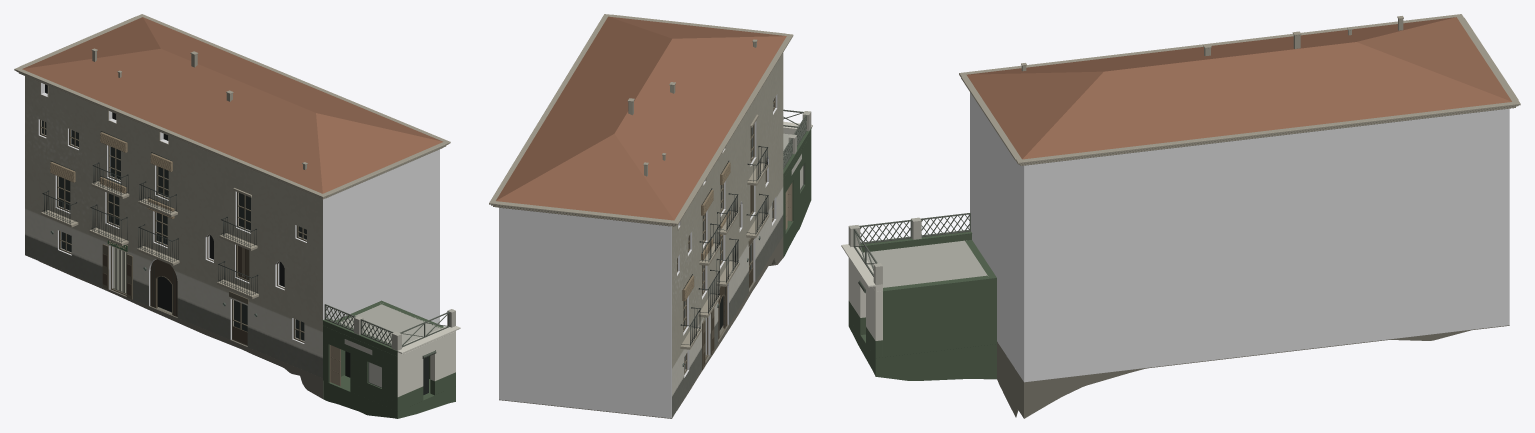
File: bar_sport.glb
3 renders of one model, left to right at view 1: azimuth 30°, elevation 25°; view 2: azimuth 150°, elevation 25°; view 3: azimuth 270°, elevation 25°, orthographic. The views are drawn at different scales.
Parts seen in each view (by area): view 1: MQN-BLD-0434__Muro_Bar_Sport_20_huecos.001, MQN-BLD-0434__Cubierta_soporte_cuatro_aguas.001, MQN-BLD-0019__Muro_frontal_G01_G02.001, HIP_CIERRE_Anexo, MQN-BLD-0019__L03_muro_superior_claro.001, MQN-BLD-0019__Forjado_terraza_horizontal.001, HIP_CIERRE_Bar, MQN-BLD-0434__Alero_frente_escalonado.005, MQN-BLD-0434__Alero_trasero_tecnico.005, MQN-BLD-0434__G03_portal_madera_medio_punto.001, MQN-BLD-0019__L03_muro_banda_verde.001, MQN-BLD-0434__Alero_costado.011 (+6 smaller); view 2: MQN-BLD-0434__Muro_Bar_Sport_20_huecos.001, MQN-BLD-0434__Cubierta_soporte_cuatro_aguas.001, MQN-BLD-0019__Muro_frontal_G01_G02.001, MQN-BLD-0434__Alero_frente_escalonado.005, MQN-BLD-0434__Alero_trasero_tecnico.005, HIP_CIERRE_Bar, MQN-BLD-0434__Alero_costado.010, HIP_CIERRE_Anexo, MQN-BLD-0434__Alero_costado.011, MQN-BLD-0434__Alero_costado.006; view 3: MQN-BLD-0434__Muro_Bar_Sport_20_huecos.001, MQN-BLD-0434__Cubierta_soporte_cuatro_aguas.001, MQN-BLD-0019__Cierre_trasero_TECNICO.001, HIP_CIERRE_Anexo, MQN-BLD-0019__Forjado_terraza_horizontal.001, HIP_CIERRE_Bar, MQN-BLD-0434__Alero_trasero_tecnico.005, MQN-BLD-0434__Alero_frente_escalonado.005, MQN-BLD-0019__L03_muro_superior_claro.001, MQN-BLD-0434__Alero_trasero_tecnico.003, MQN-BLD-0019__Peto_frontal_opaco.001, MQN-BLD-0019__Cierre_lateral_izquierdo_TECNICO.001 (+3 smaller).
Part boxes in pixels (bbox=[...]): MQN-BLD-0434__Muro_Bar_Sport_20_huecos.001: bbox=[25, 76, 439, 378]; MQN-BLD-0434__Cubierta_soporte_cuatro_aguas.001: bbox=[22, 17, 443, 193]; MQN-BLD-0019__Muro_frontal_G01_G02.001: bbox=[323, 326, 401, 411]; HIP_CIERRE_Anexo: bbox=[323, 375, 455, 418]; MQN-BLD-0019__L03_muro_superior_claro.001: bbox=[402, 331, 455, 395]; MQN-BLD-0019__Forjado_terraza_horizontal.001: bbox=[339, 303, 441, 344]; HIP_CIERRE_Bar: bbox=[25, 255, 323, 398]; MQN-BLD-0434__Alero_frente_escalonado.005: bbox=[14, 66, 328, 197]; MQN-BLD-0434__Alero_trasero_tecnico.005: bbox=[137, 14, 450, 144]; MQN-BLD-0434__G03_portal_madera_medio_punto.001: bbox=[150, 259, 177, 316]; MQN-BLD-0019__L03_muro_banda_verde.001: bbox=[402, 372, 455, 409]; MQN-BLD-0434__Alero_costado.011: bbox=[325, 143, 445, 195]; MQN-BLD-0434__Muro_Bar_Sport_20_huecos.001: bbox=[499, 53, 783, 418]; MQN-BLD-0434__Cubierta_soporte_cuatro_aguas.001: bbox=[496, 16, 786, 220]; MQN-BLD-0019__Muro_frontal_G01_G02.001: bbox=[783, 134, 811, 237]; MQN-BLD-0434__Alero_frente_escalonado.005: bbox=[670, 33, 793, 224]; MQN-BLD-0434__Alero_trasero_tecnico.005: bbox=[489, 14, 611, 205]; HIP_CIERRE_Bar: bbox=[499, 236, 783, 418]; MQN-BLD-0434__Alero_costado.010: bbox=[497, 201, 670, 224]; HIP_CIERRE_Anexo: bbox=[783, 193, 811, 257]; MQN-BLD-0434__Alero_costado.011: bbox=[611, 14, 784, 35]; MQN-BLD-0434__Alero_costado.006: bbox=[497, 206, 670, 226]; MQN-BLD-0434__Muro_Bar_Sport_20_huecos.001: bbox=[970, 92, 1509, 382]; MQN-BLD-0434__Cubierta_soporte_cuatro_aguas.001: bbox=[966, 17, 1511, 159]; MQN-BLD-0019__Cierre_trasero_TECNICO.001: bbox=[883, 275, 989, 357]; HIP_CIERRE_Anexo: bbox=[848, 318, 996, 380]; MQN-BLD-0019__Forjado_terraza_horizontal.001: bbox=[863, 240, 988, 287]; HIP_CIERRE_Bar: bbox=[997, 325, 1509, 418]; MQN-BLD-0434__Alero_trasero_tecnico.005: bbox=[1015, 99, 1520, 164]; MQN-BLD-0434__Alero_frente_escalonado.005: bbox=[959, 14, 1463, 76]; MQN-BLD-0019__L03_muro_superior_claro.001: bbox=[850, 261, 882, 340]; MQN-BLD-0434__Alero_trasero_tecnico.003: bbox=[1020, 106, 1515, 165]; MQN-BLD-0019__Peto_frontal_opaco.001: bbox=[858, 231, 971, 252]; MQN-BLD-0019__Cierre_lateral_izquierdo_TECNICO.001: bbox=[965, 240, 996, 344].
Bounding box in the file's own units: 16.19 × 16.21 × 31.26.
Materials: 29 (3 with a texture image).
